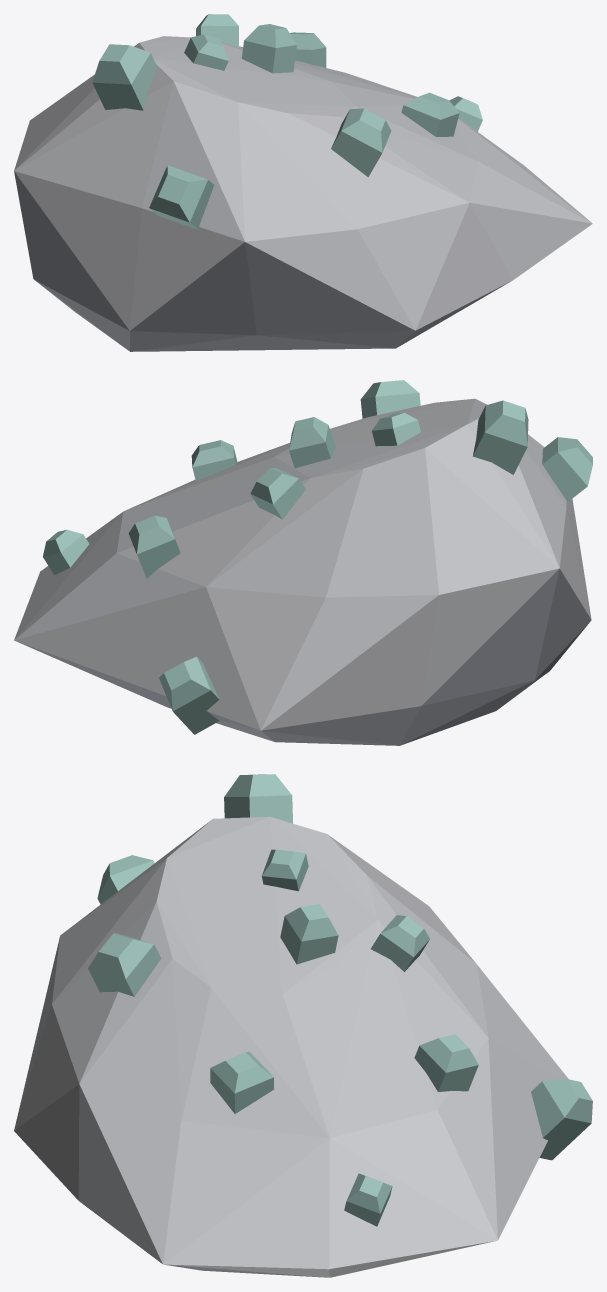
File: SM_MR_Crystal_Medium_02.fbx
The picture shows the model from 3 angles, top to bottom: view 1: azimuth 30°, elevation 25°; view 2: azimuth 150°, elevation 25°; view 3: azimuth 270°, elevation 25°; orthographic projection. The views are drawn at different scales.
Parts seen in each view (by area): view 1: SM_MR_Crystal_Medium_02; view 2: SM_MR_Crystal_Medium_02; view 3: SM_MR_Crystal_Medium_02.
Boxes of the visible parts, x1=… form: SM_MR_Crystal_Medium_02: x1=14, y1=14, x2=592, y2=351; SM_MR_Crystal_Medium_02: x1=14, y1=380, x2=592, y2=745; SM_MR_Crystal_Medium_02: x1=14, y1=774, x2=592, y2=1277.
Bounding box in the file's own units: 1.15 × 1.04 × 0.6043.
